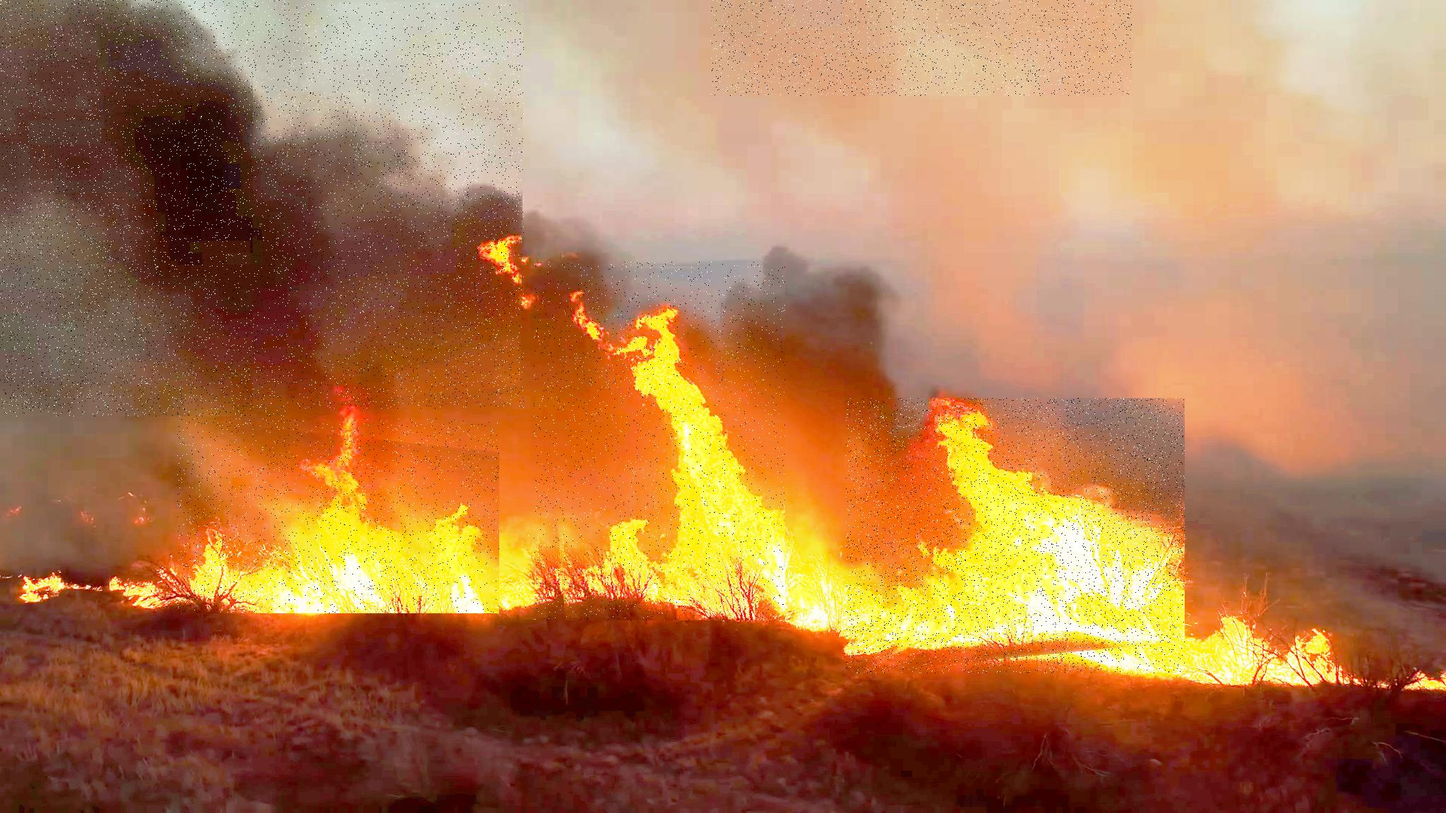fire: (846, 398, 1185, 673), (534, 262, 785, 620), (177, 418, 499, 613)
smoke: (0, 0, 285, 416), (253, 2, 524, 409), (710, 0, 1133, 96)
